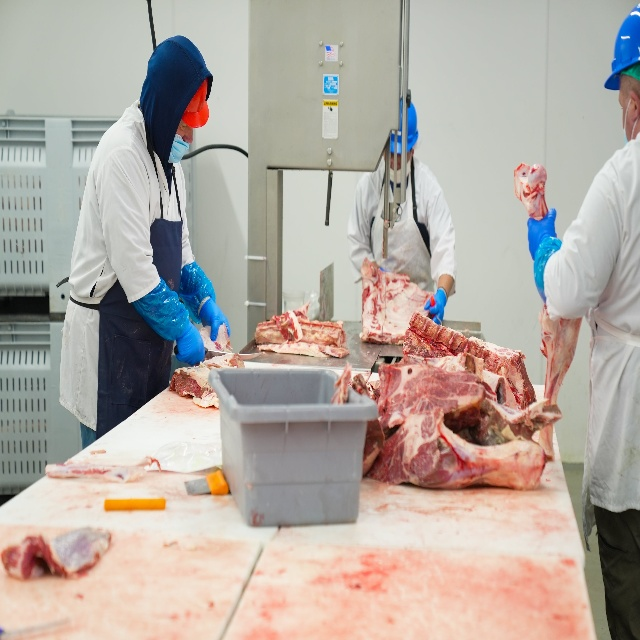Guantes: (525, 203, 557, 253), (174, 322, 203, 363), (199, 303, 230, 340), (425, 291, 445, 322)
Mascara: (382, 158, 416, 185), (168, 133, 195, 164)
